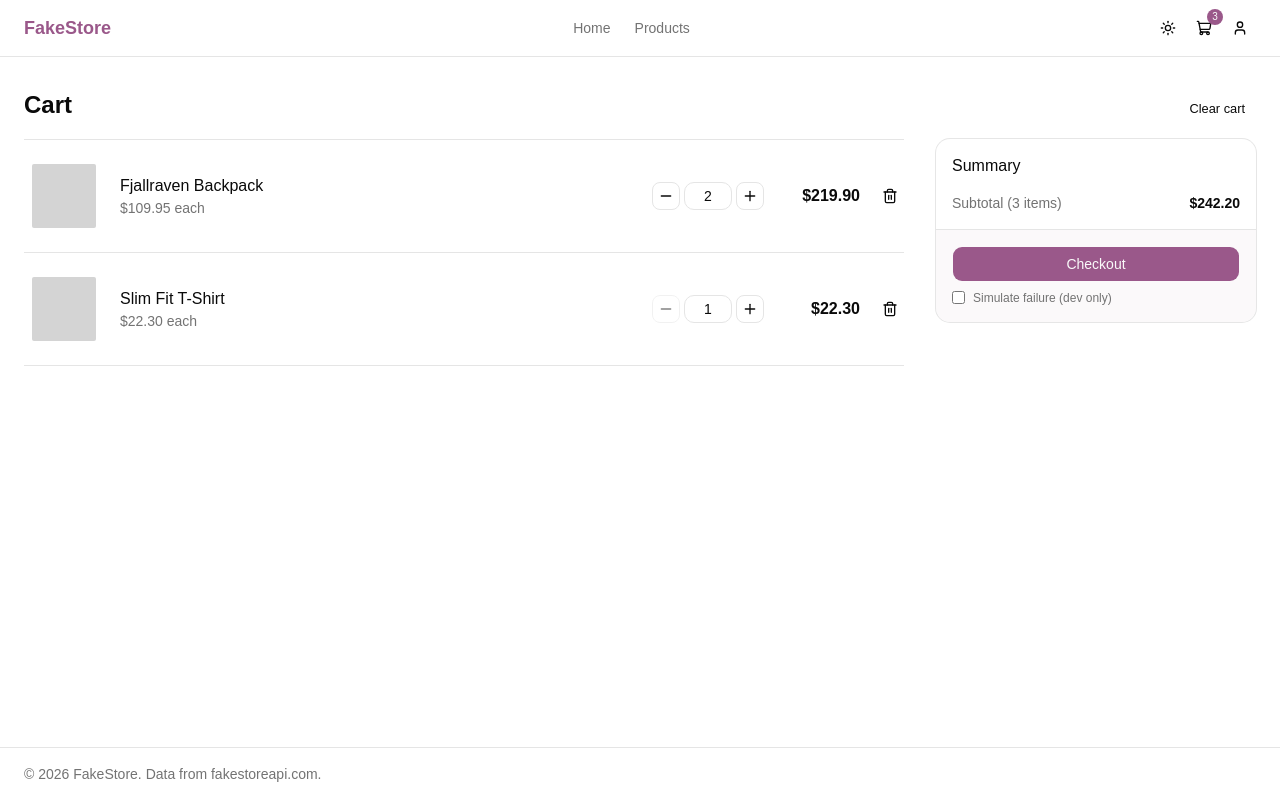
Test: CartPage › checks out: the order shows in the account history and the cart empties
The width and height of the screenshot is (1280, 800).
Click the button "Checkout": [1096, 264] box [952,246,1240,282]
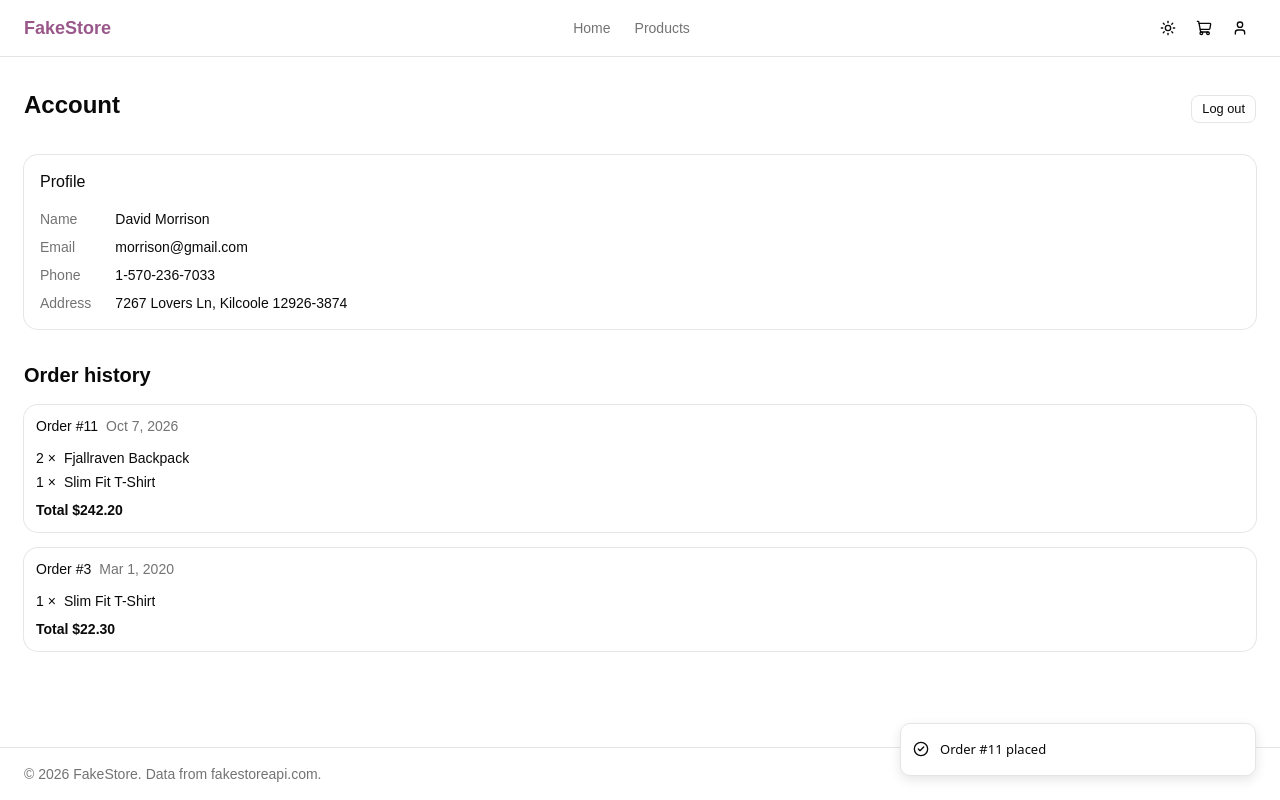
expect the text "Order #11" is shown: met, box [36,418,98,434]
expect the text "Order #3" is shown: met, box [36,561,91,577]
expect the text "Order #11 placed" is shown: met, box [940,740,1046,759]
